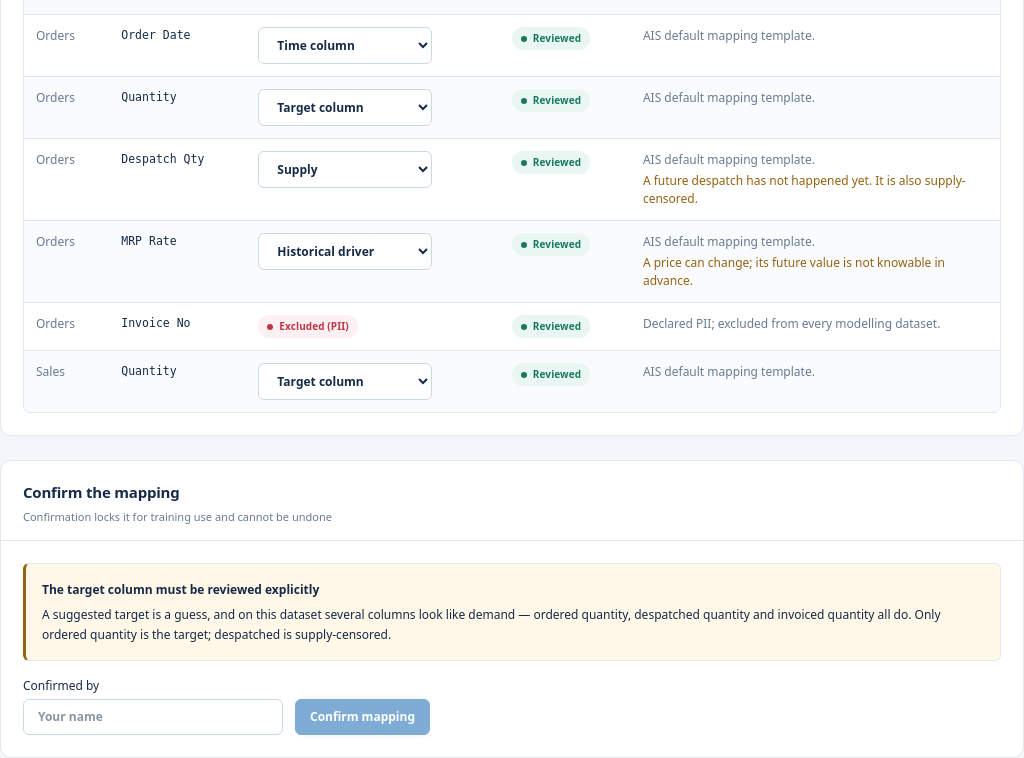
Test: RoleEditor › surfaces the API reason when confirmation is refused
(page scrolled)
Type "planner" into the field labelled "Confirmed by" at (153, 717), box [23, 699, 283, 735]
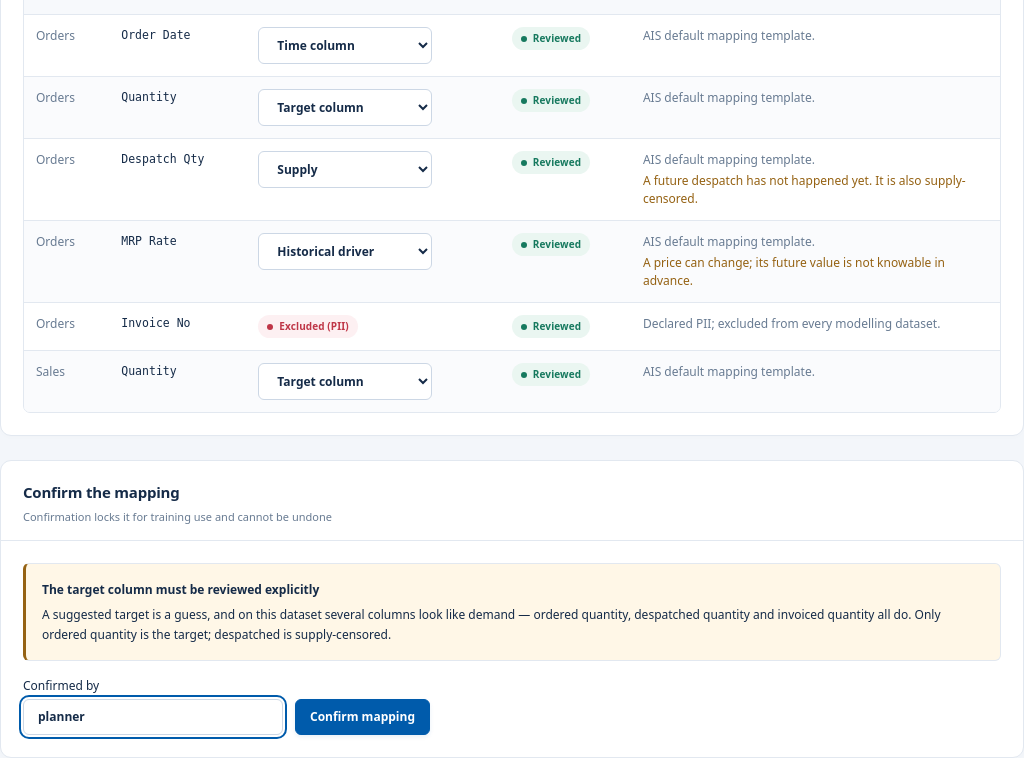
Click the button "Confirm mapping" at (362, 717), box [295, 699, 430, 735]
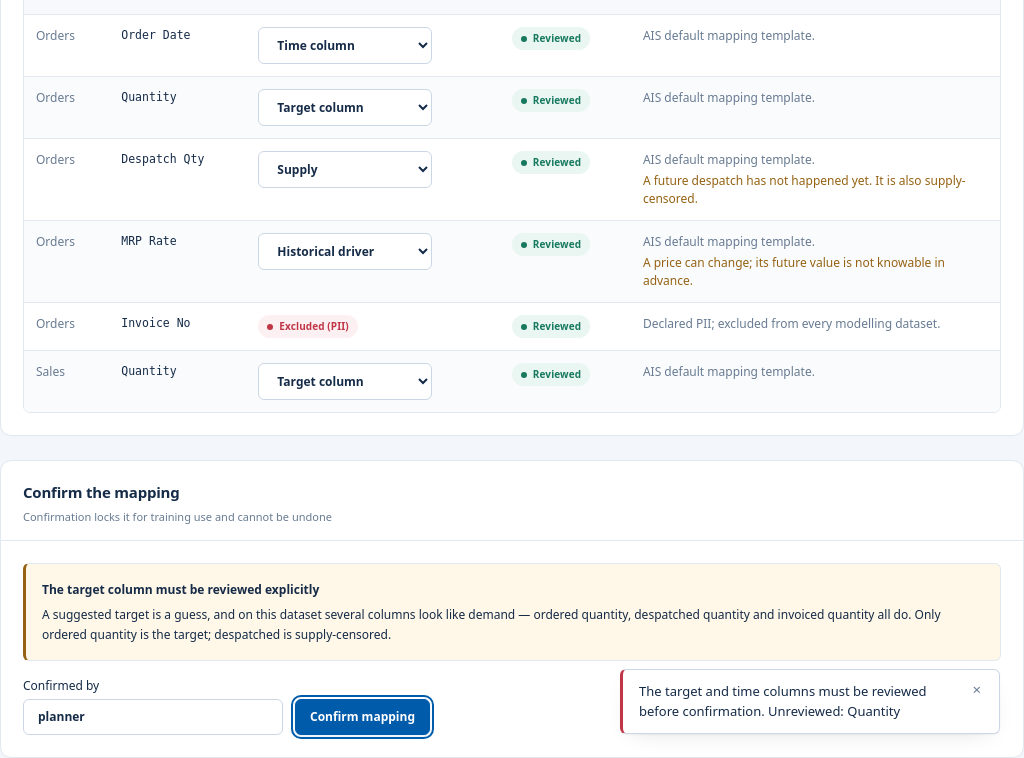
expect the text "Unreviewed: Quantity" is shown: met, box [639, 682, 926, 720]
